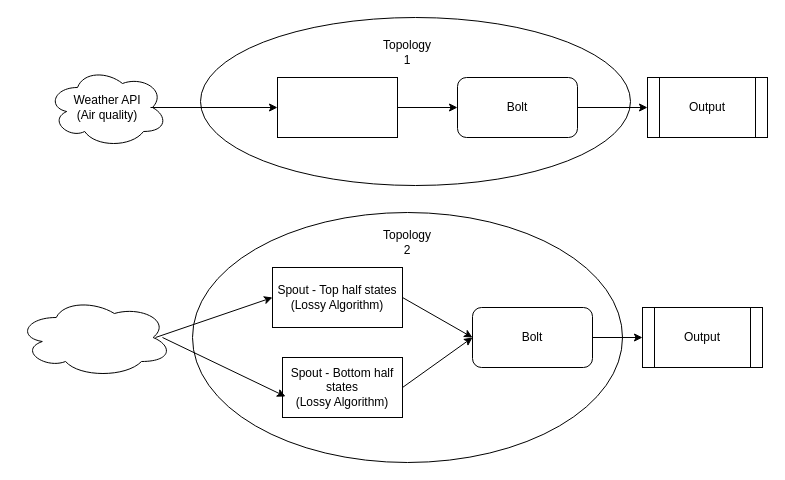
This 785x480 diagram has some shape labels left out. Here are the shapes that lost their labels. From the top down, the centre of each, then its label:
the point at 337,107: Spout (Lossy Algorithm)
the point at 94,337: Weather API (Cloud Coverage)
